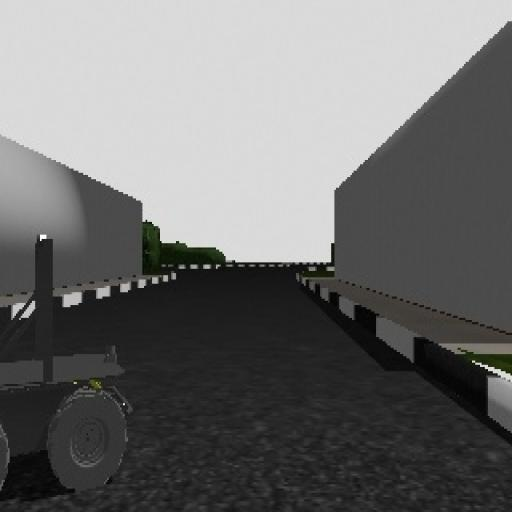huskya200: (0, 222, 134, 494)
